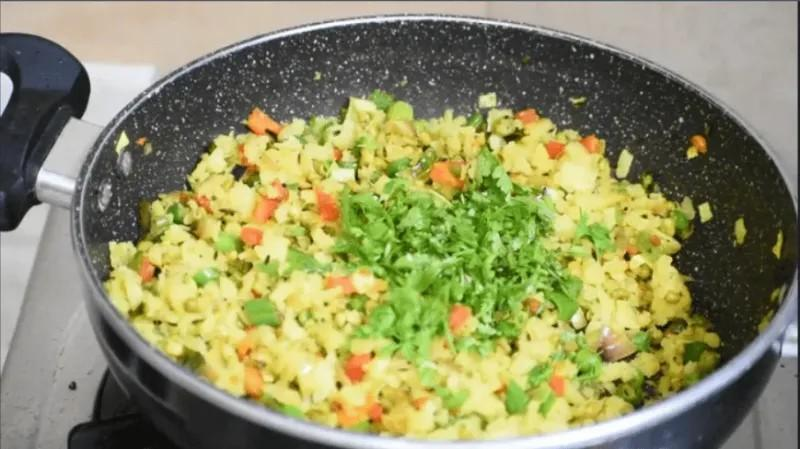Poha: (109, 78, 721, 440)
